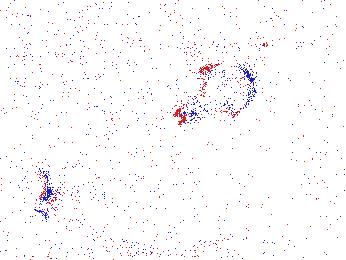flame jellyfish: (173, 58, 261, 126), (7, 165, 57, 208), (57, 160, 102, 203)
